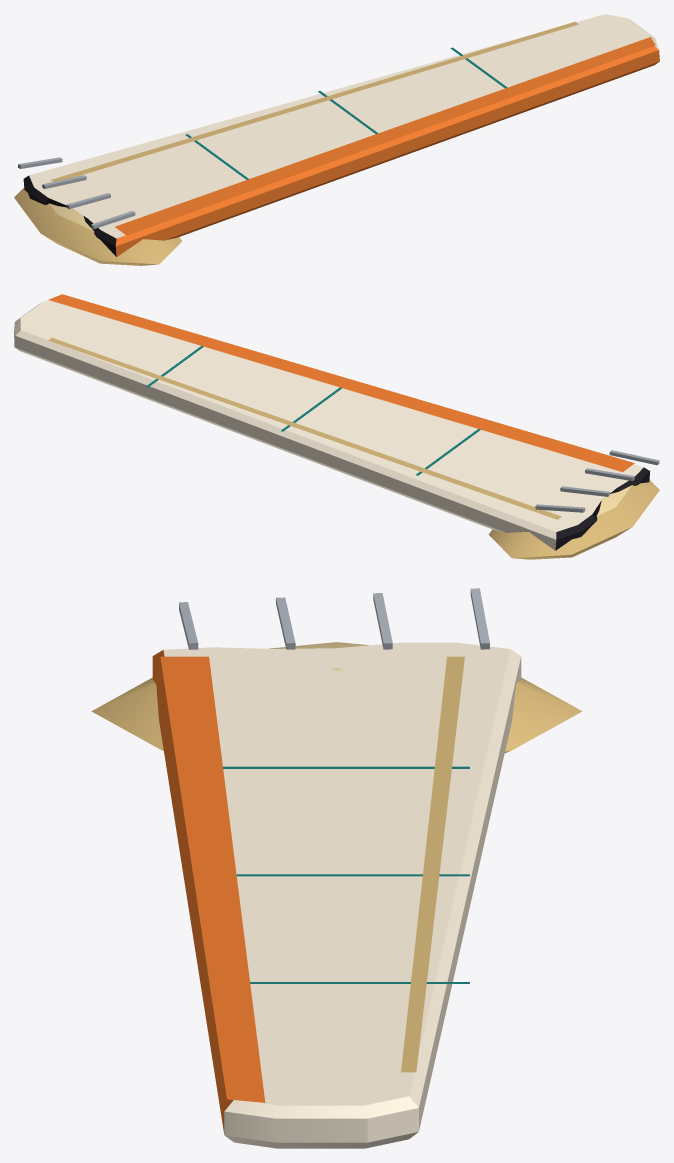
The model's file is RestosAla.fbx.
3 views of the same model, one above another, from view 1: azimuth 30°, elevation 25°; view 2: azimuth 150°, elevation 25°; view 3: azimuth 270°, elevation 25° (orthographic). The views are drawn at different scales.
Visible parts, largest first — view 1: RestosAla; view 2: RestosAla; view 3: RestosAla.
Part boxes in pixels (left/top/right/bottom): RestosAla: left=14, top=14, right=659, bottom=265; RestosAla: left=14, top=294, right=659, bottom=559; RestosAla: left=91, top=588, right=582, bottom=1148.
Size of the model in its own units: 27.07 by 3.71 by 9.6.
1 material, 1 textured.
